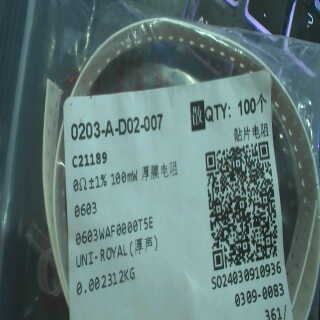0R: (70, 166, 140, 219)
